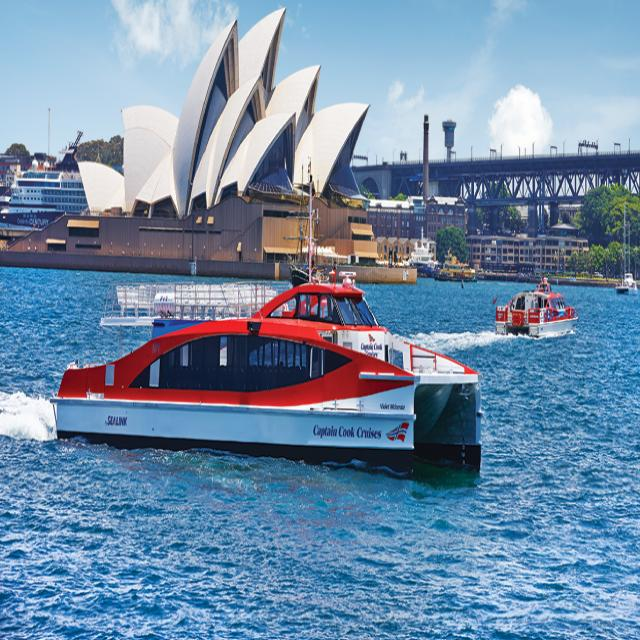boat: (55, 254, 508, 520)
